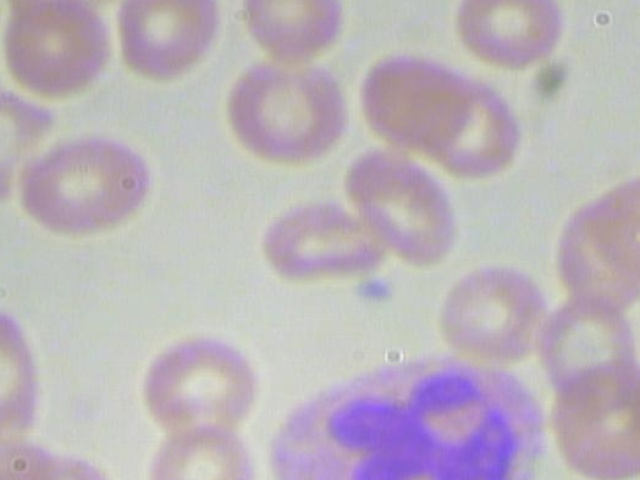Platelets: (340, 275, 393, 310)
RBC: (220, 48, 353, 173), (17, 128, 158, 238), (345, 145, 461, 276), (249, 191, 389, 297), (133, 329, 261, 441), (427, 260, 555, 365), (350, 45, 472, 151), (0, 0, 120, 102), (535, 293, 639, 396), (447, 0, 576, 73), (115, 0, 223, 87), (135, 425, 257, 480), (0, 302, 44, 453), (0, 27, 3, 146)
WBC: (251, 346, 570, 480)
